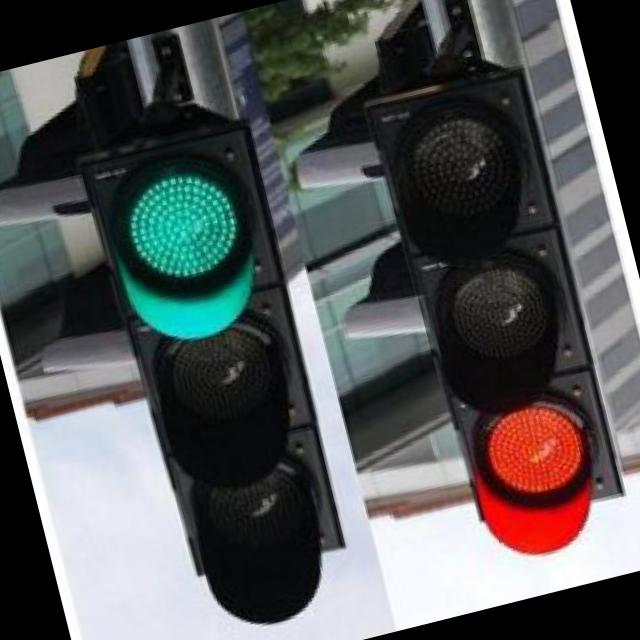green-lights: (88, 125, 297, 347)
red-lights: (453, 360, 619, 567)
